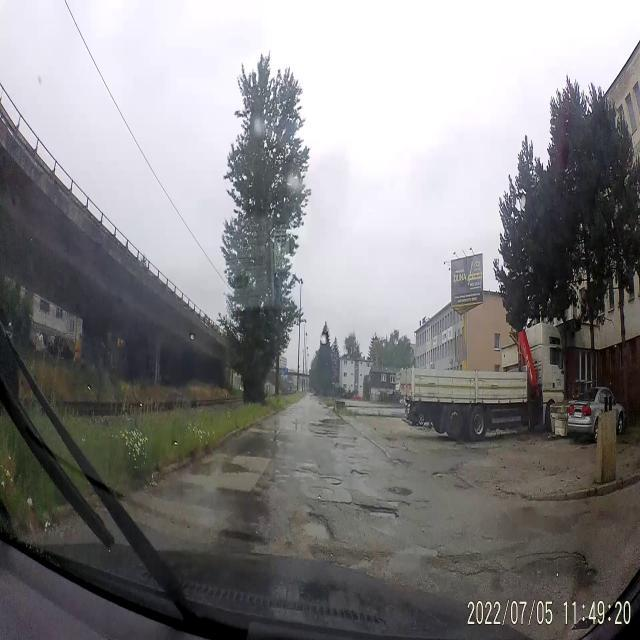Manhole: (386, 484, 414, 498), (309, 484, 335, 496), (320, 476, 344, 486)
Pothole: (518, 540, 596, 588), (300, 508, 334, 544), (358, 500, 398, 525), (294, 462, 321, 480), (348, 463, 372, 481), (388, 456, 414, 470), (312, 428, 340, 438), (431, 469, 454, 478)
